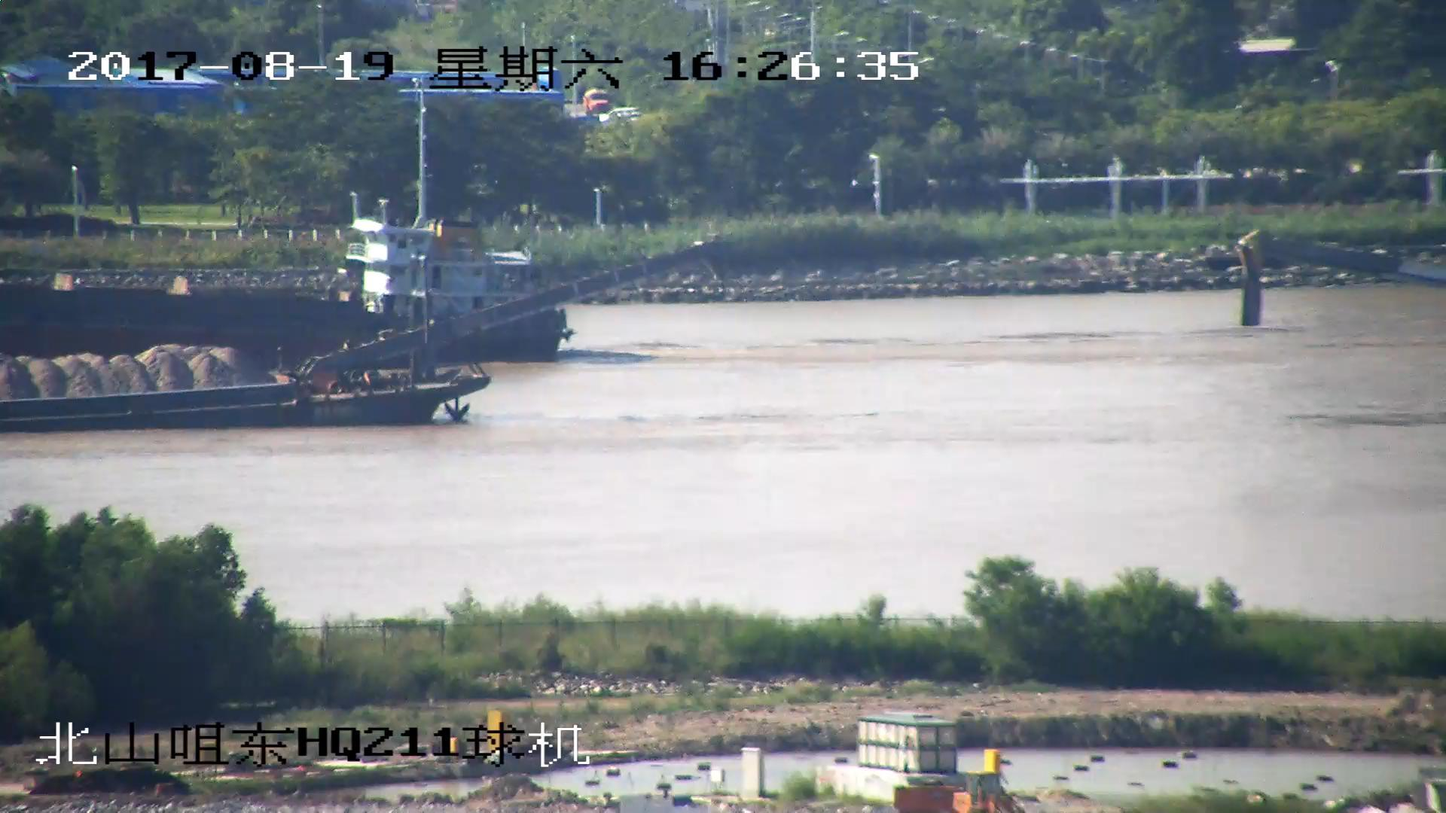bulk cargo carrier: (0, 190, 562, 360)
ore carrier: (0, 237, 723, 434)
